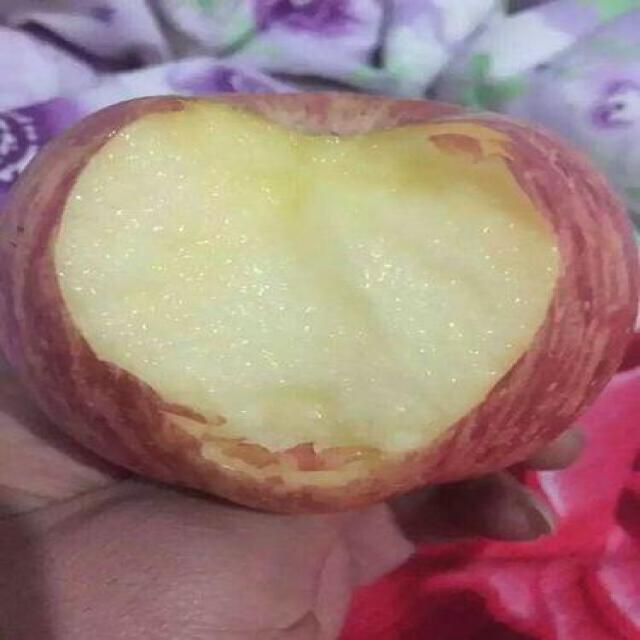Apple: (12, 88, 630, 502)
